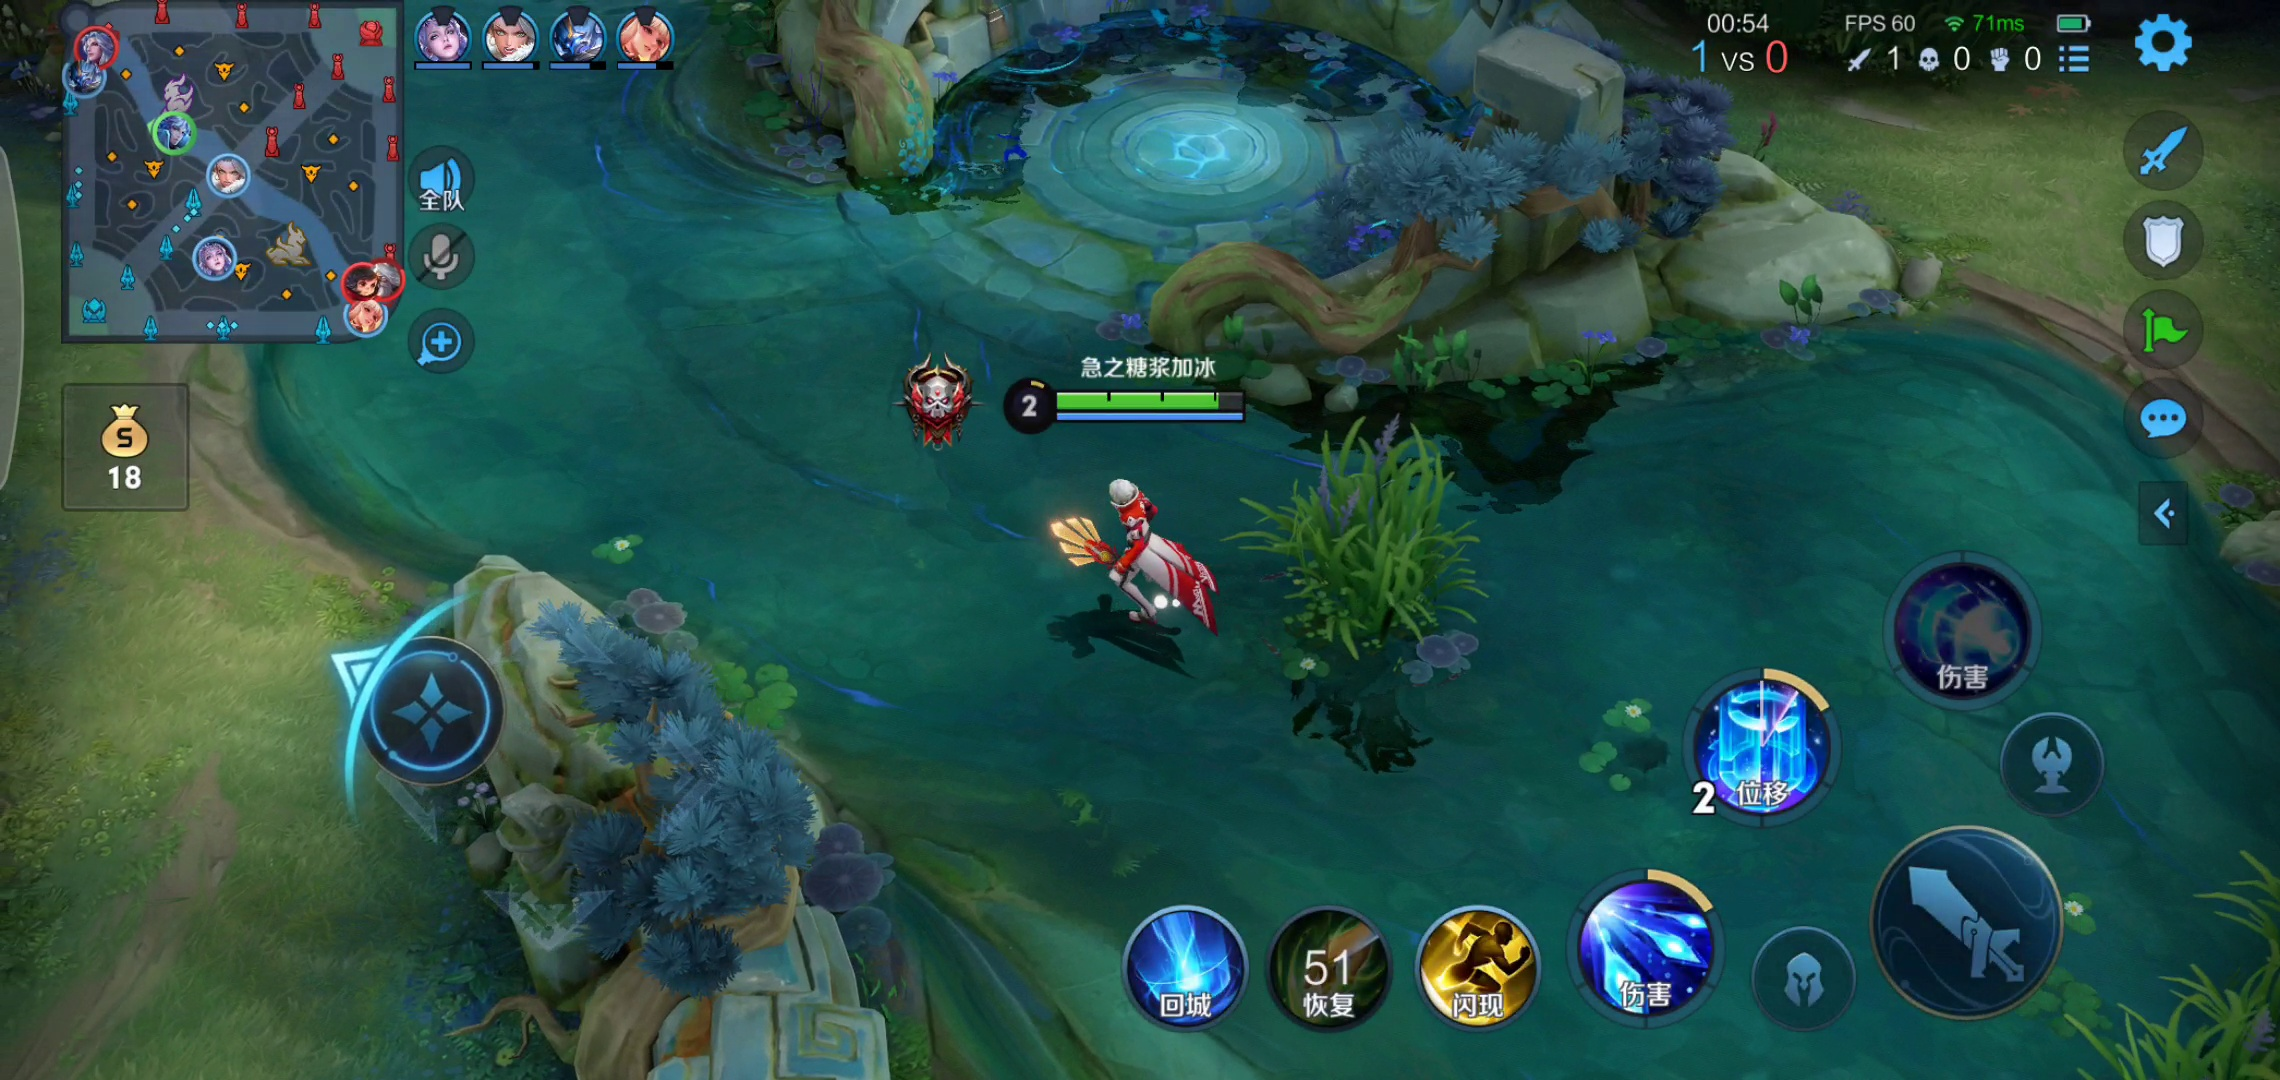grass: (1249, 435, 1482, 661), (2111, 872, 2274, 1080)
hero: (1035, 452, 1240, 683)
